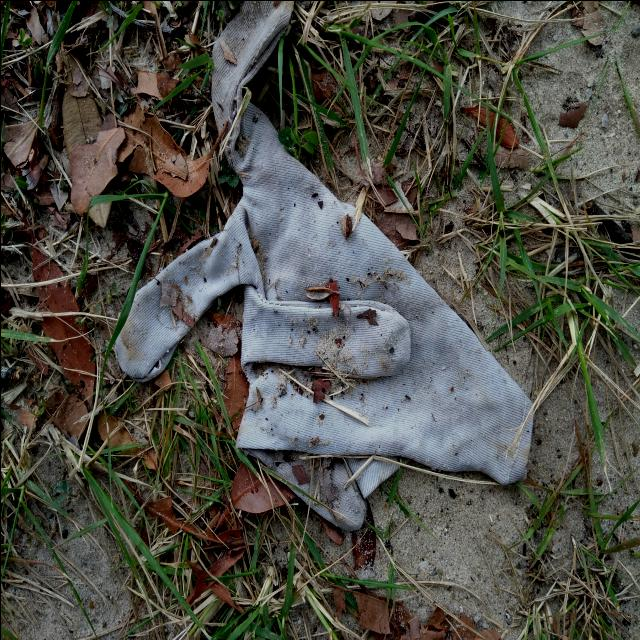Unlabeled litter: (114, 1, 533, 530)
